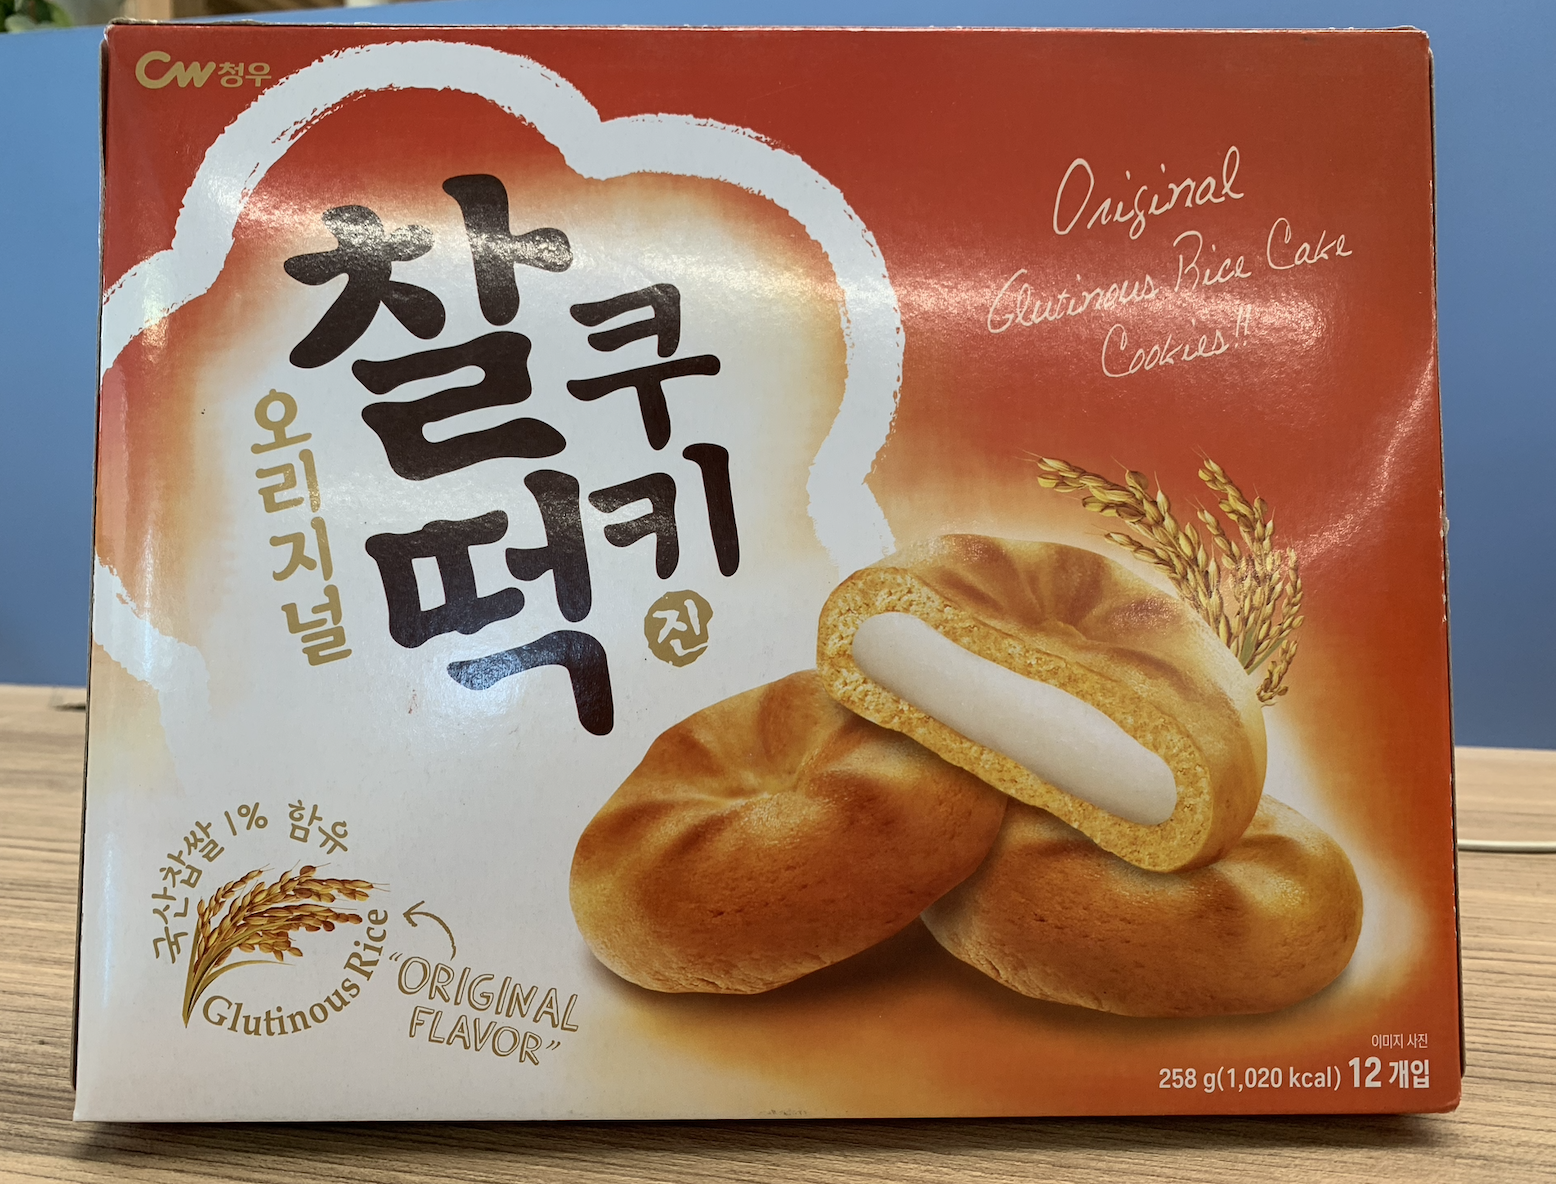cookies_200g-299g: (137, 50, 1453, 1097)
